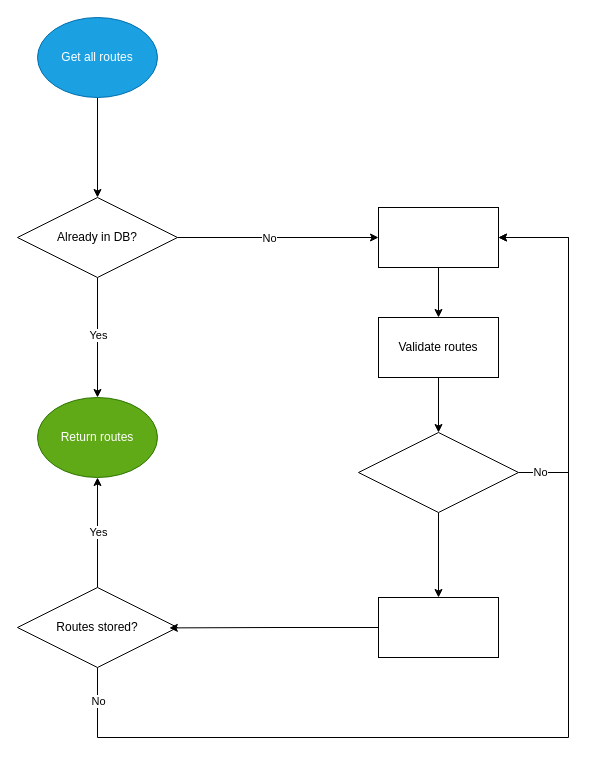
Image size: 594x763. Some labels were removed from this diagram. The shapes that lost their labels are listed below. From the top down, each one's centre as x and y in pixels, then its label:
(x=438, y=237): Retrieve routes from Open Data portal
(x=438, y=472): Routes correct?
(x=438, y=627): Store routes
